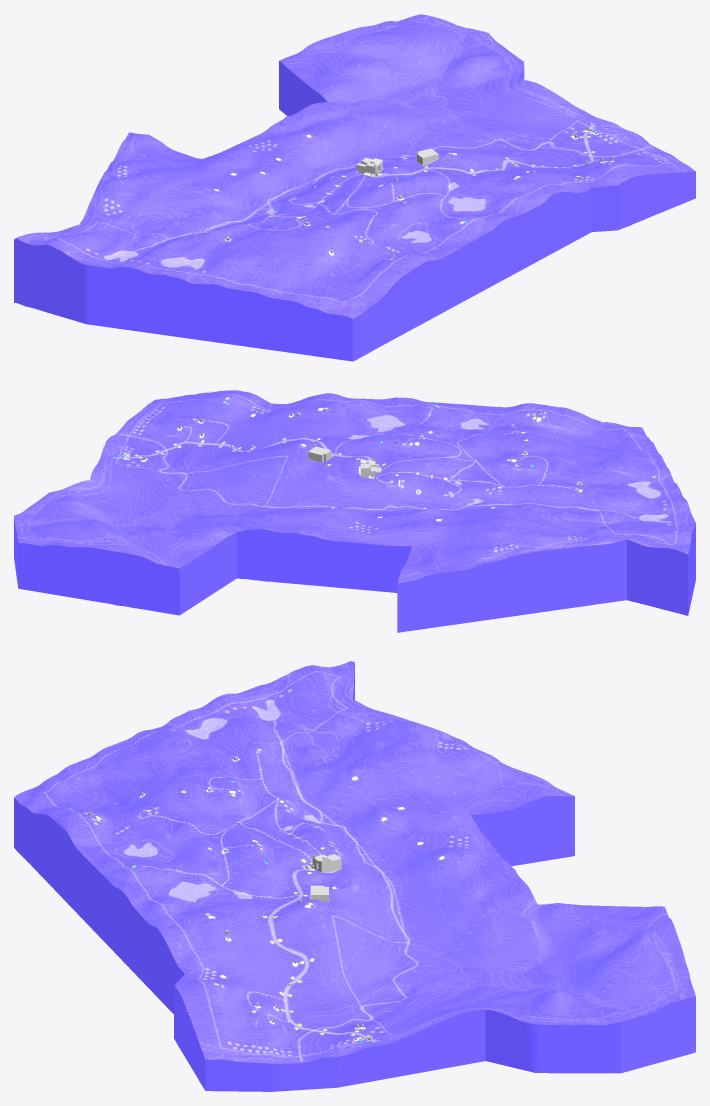
File: land.glb
3 renders of one model, top to bottom at view 1: azimuth 30°, elevation 25°; view 2: azimuth 150°, elevation 25°; view 3: azimuth 270°, elevation 25°, orthographic. The views are drawn at different scales.
Visible parts, largest first — view 1: Land; view 2: Land; view 3: Land.
Part boxes in pixels (box(x1,y1,x2,y2)): Land: box(14, 14, 695, 361); Land: box(14, 390, 695, 632); Land: box(14, 661, 695, 1091).
Size of the model in its own units: 668 by 73.65 by 542.
Materials: 3 (1 with a texture image).
